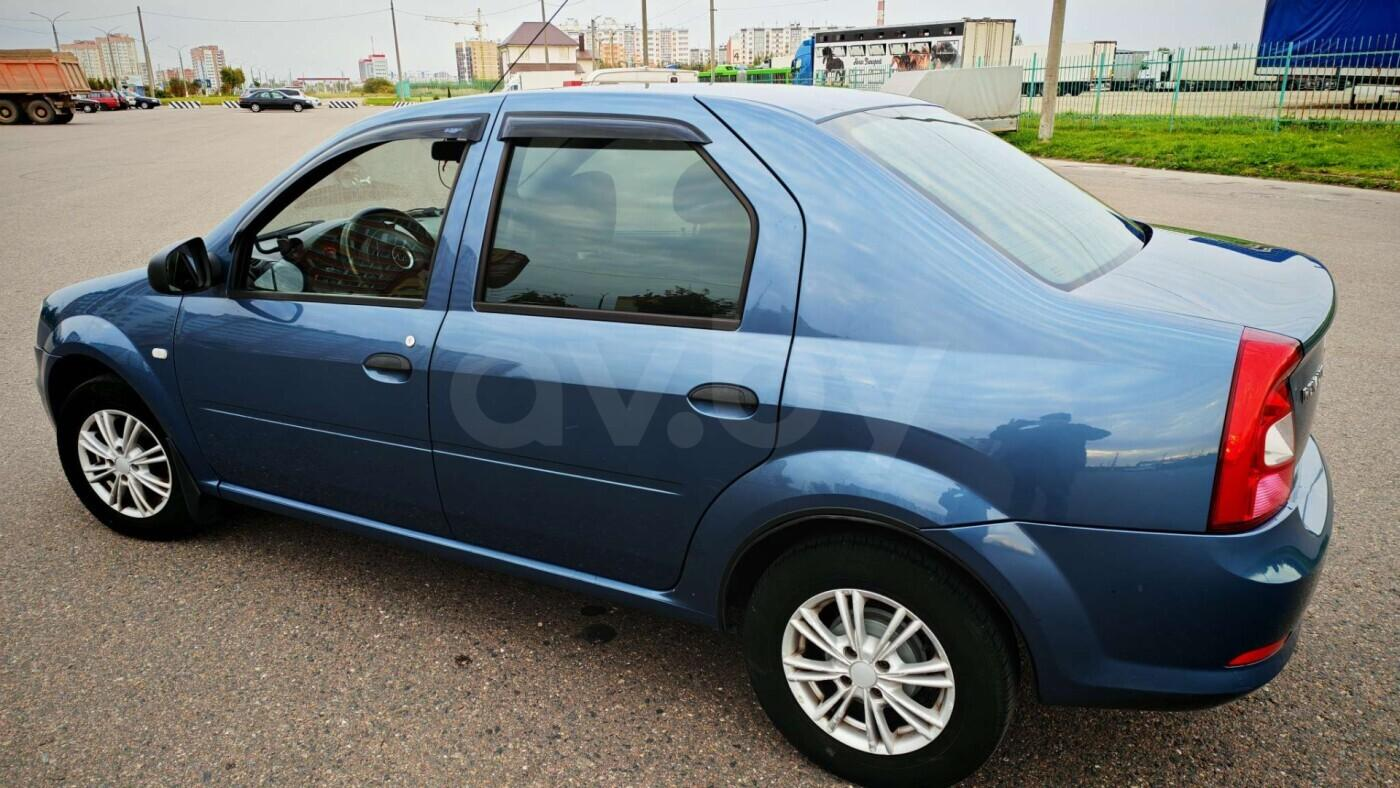Logan_2008-2015: (20, 82, 1340, 788)
